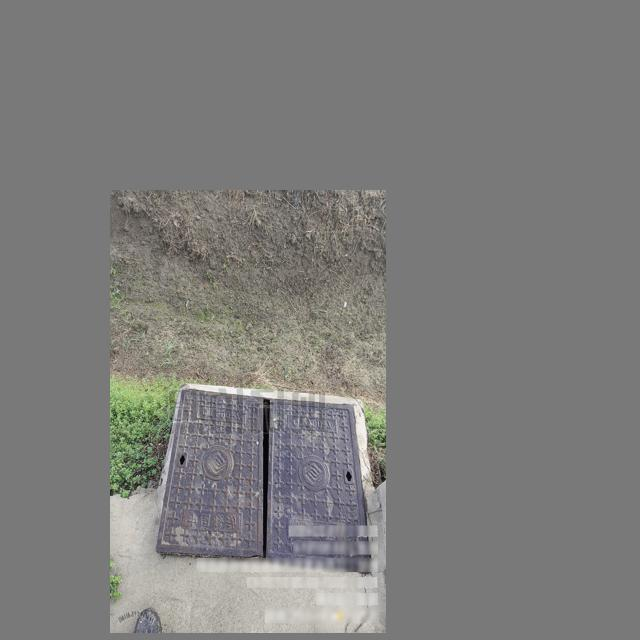uncovered: (150, 397, 367, 553)
